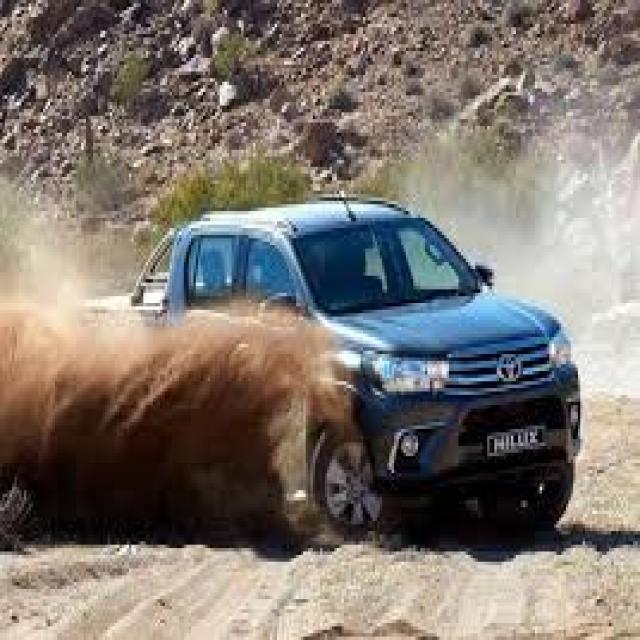Pickup Trucks: (86, 201, 583, 541)
